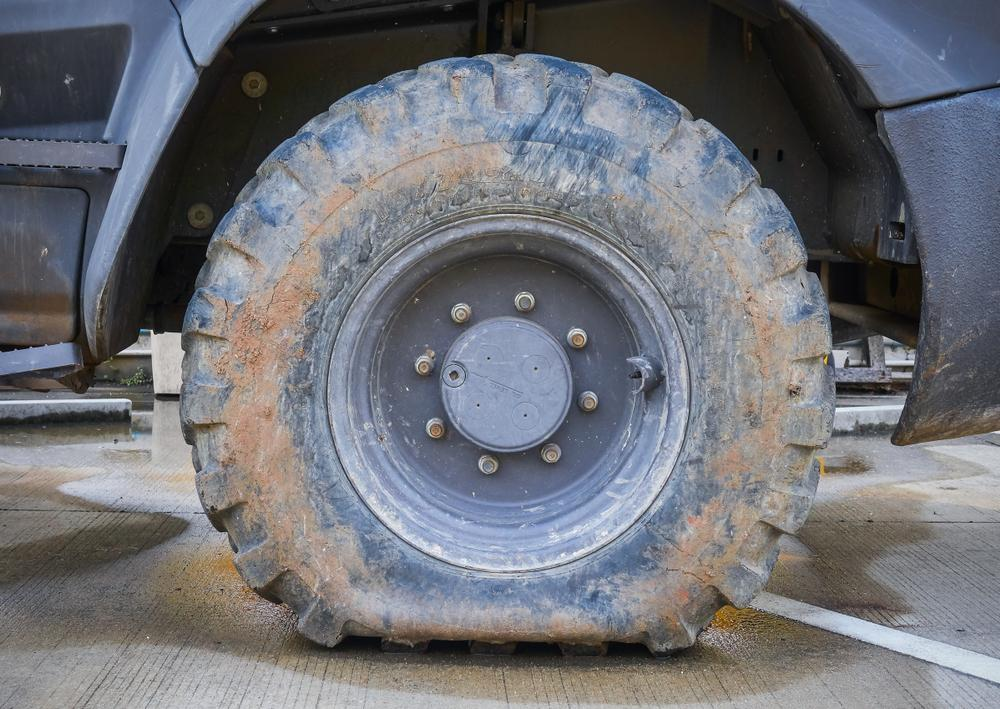tire flat: (179, 52, 842, 662)
